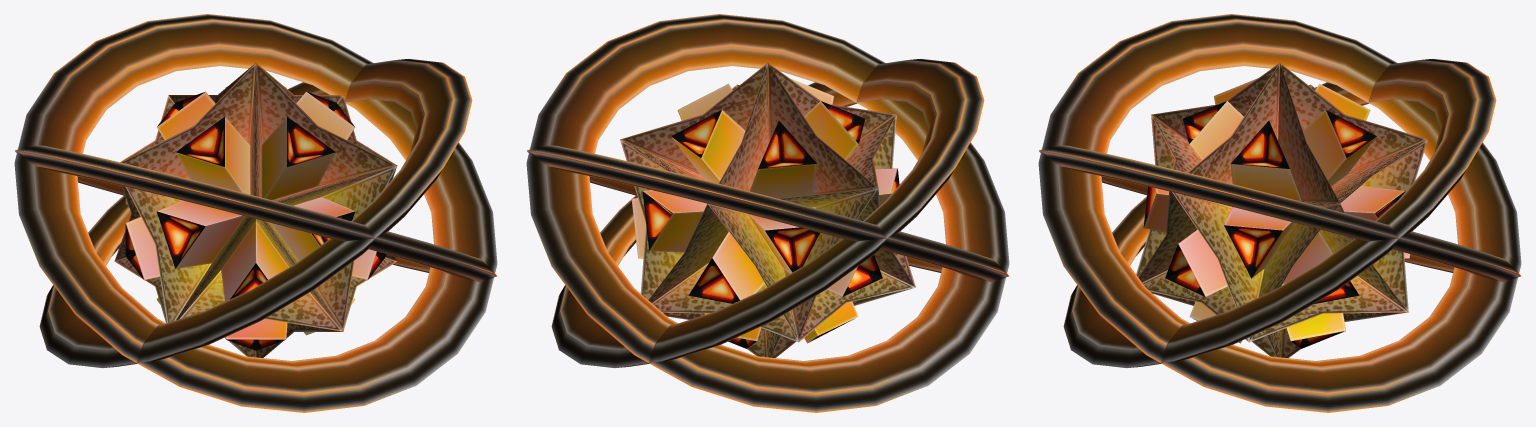
File: Artifact07.FBX
3 views of the same model, side by side, from view 1: azimuth 30°, elevation 25°; view 2: azimuth 150°, elevation 25°; view 3: azimuth 270°, elevation 25° (orthographic).
Visible parts, largest first — view 1: Artifact07; view 2: Artifact07; view 3: Artifact07.
Part boxes in pixels (x1,y1,x2,y2): Artifact07: [14, 14, 497, 412]; Artifact07: [526, 14, 1009, 412]; Artifact07: [1038, 14, 1521, 412].
Size of the model in its own units: 28.08 by 18.7 by 27.14.
